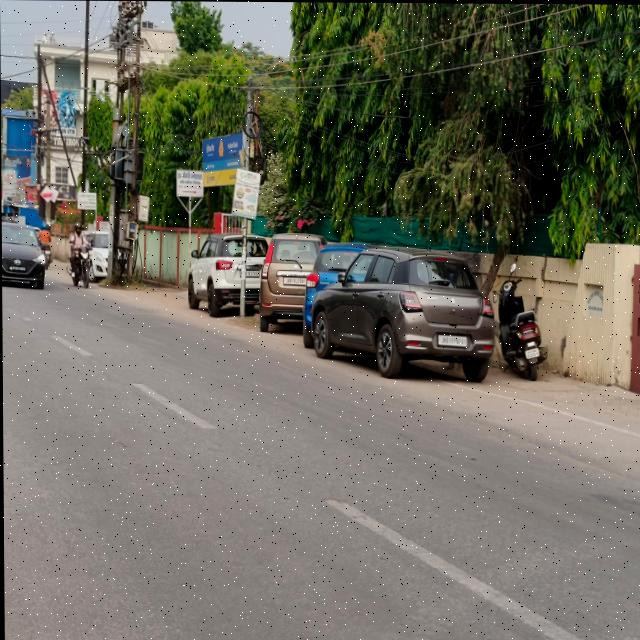bike: (491, 266, 551, 385), (67, 238, 95, 290), (41, 243, 54, 270)
car: (309, 245, 496, 383), (302, 243, 377, 349), (181, 228, 269, 317), (260, 221, 325, 339), (2, 219, 46, 293), (84, 231, 109, 280)
